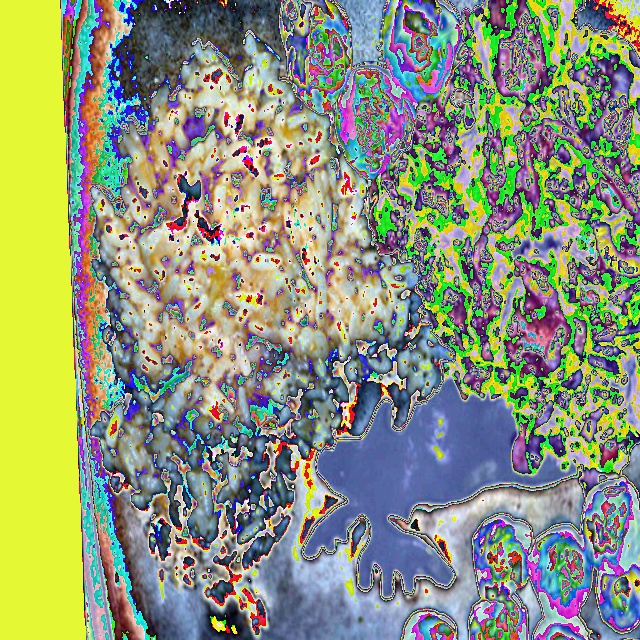background: (88, 0, 639, 640), (56, 30, 457, 639), (171, 162, 639, 639)
